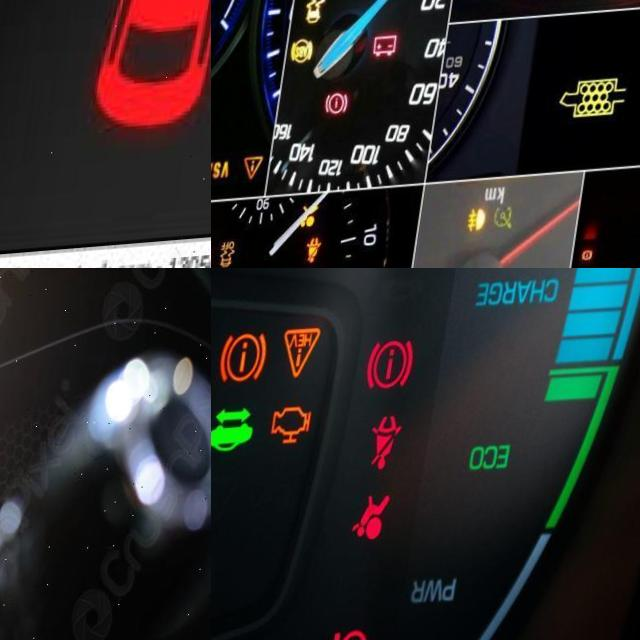Seat Belt: (374, 420, 414, 476), (314, 241, 333, 268)
